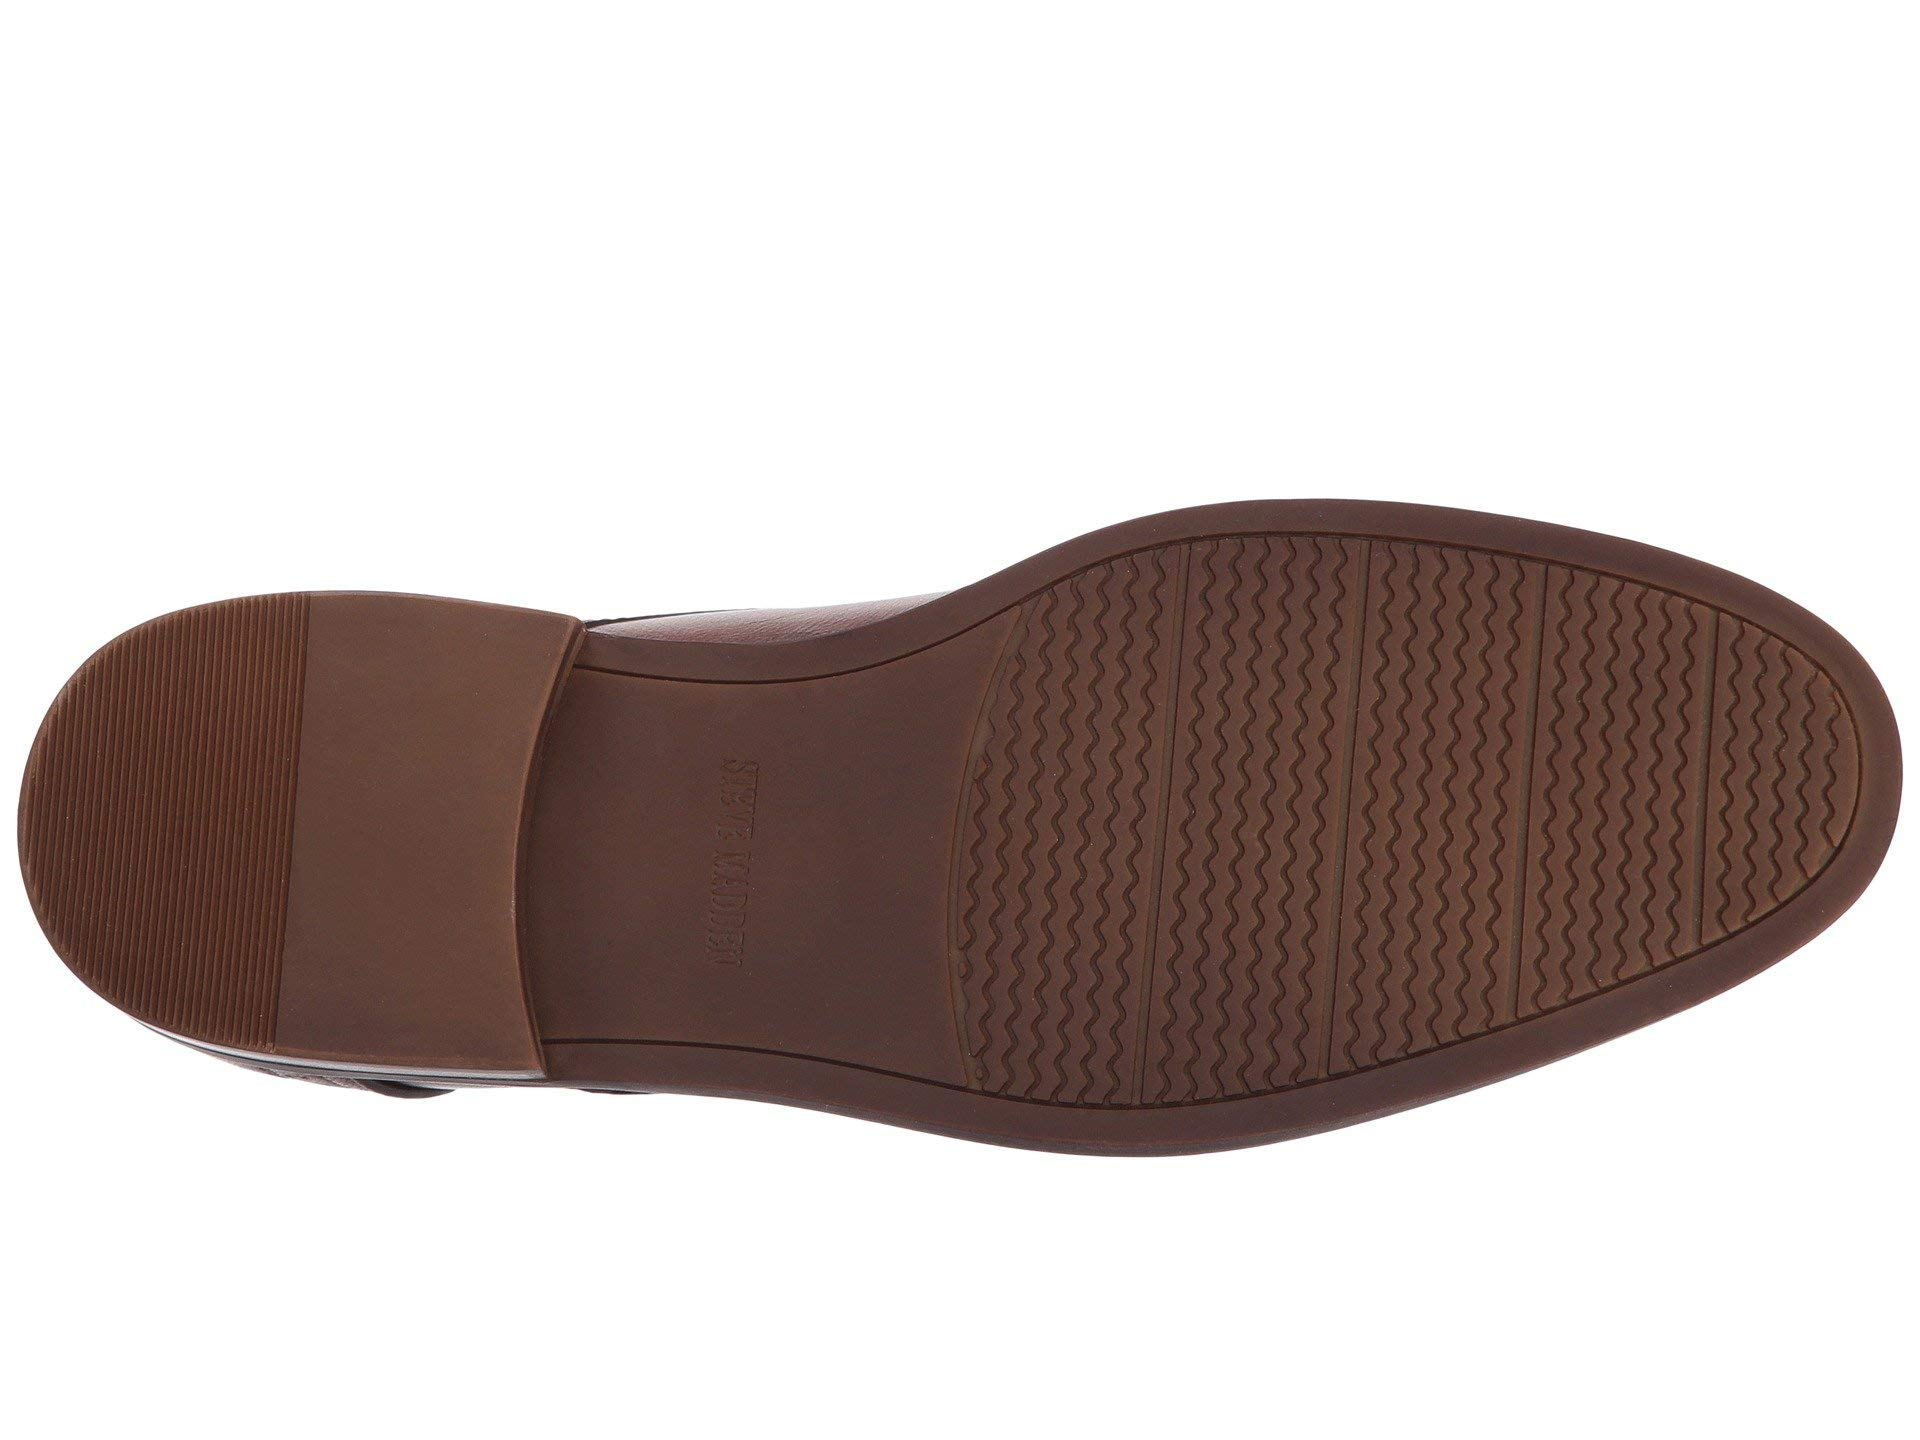chevron: (952, 540, 1867, 1113)
exclude: (523, 573, 1023, 1148)
line: (952, 540, 1867, 1113), (26, 591, 308, 1062)
